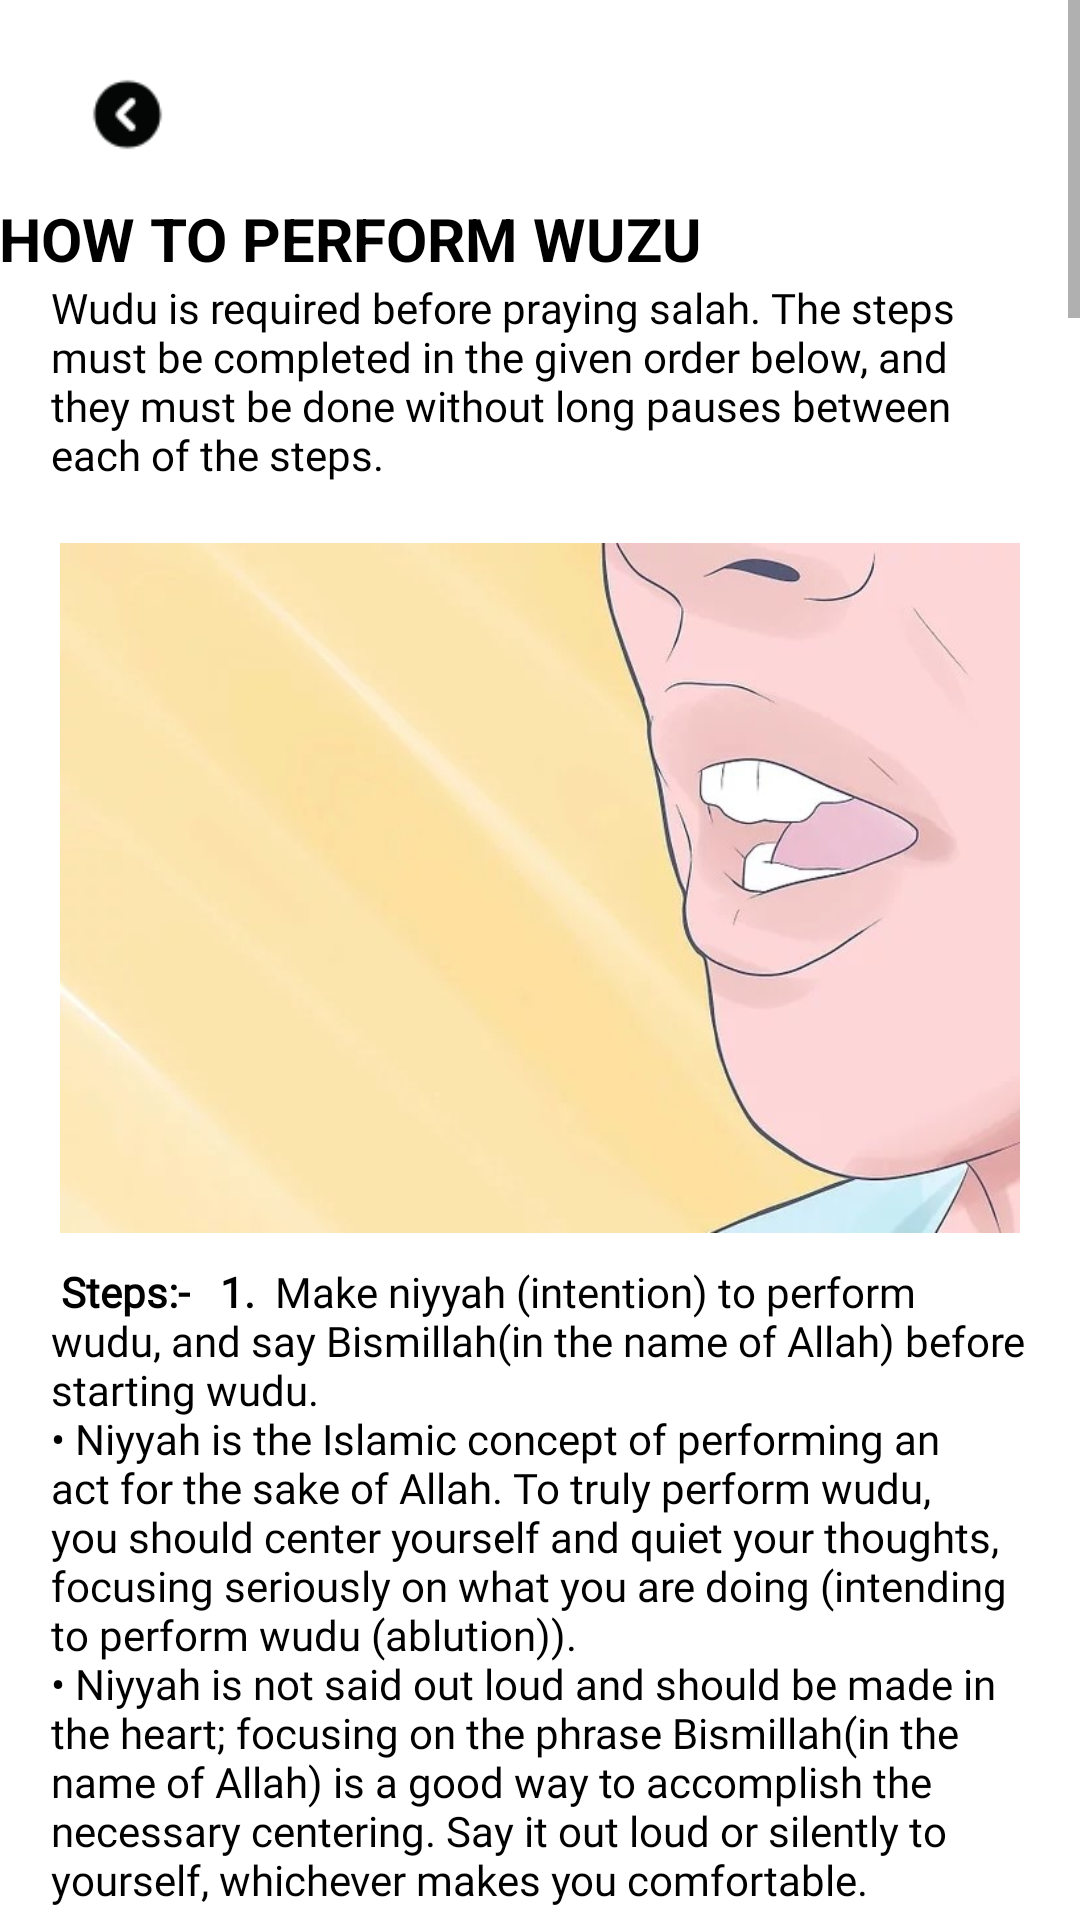

Where to tap for icons on this 1080 x 1920 app screen, as (x,y):
backicon: (127,114)
